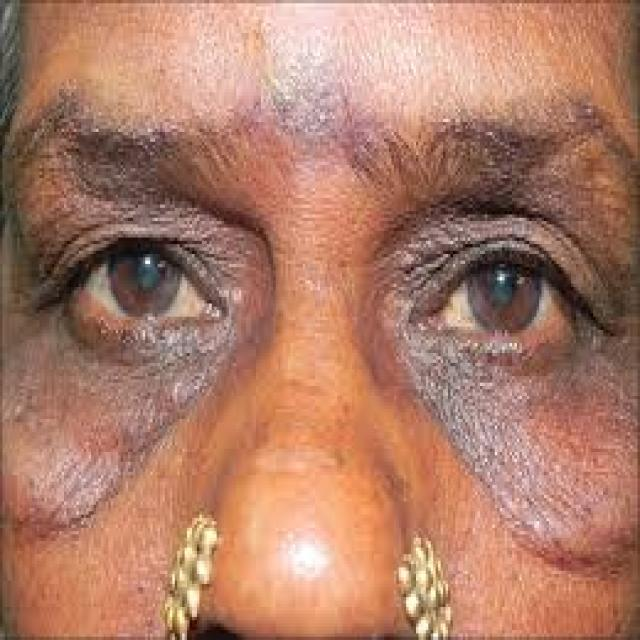high: (400, 337, 604, 416), (51, 328, 225, 404)
